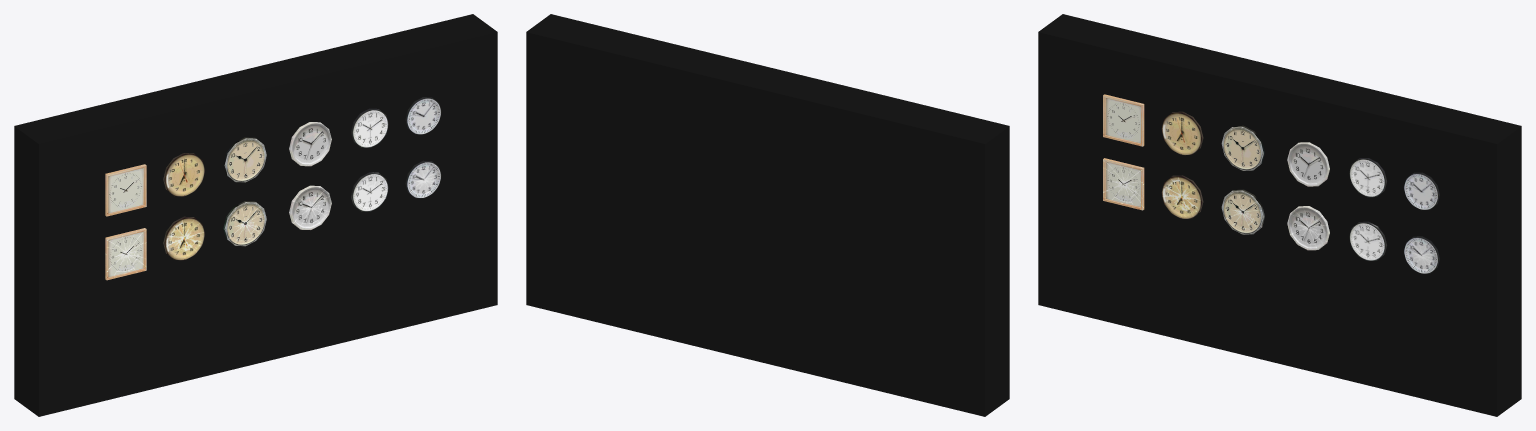
File: psx-style_vintage_wall_clocks.glb
The picture shows the model from 3 angles, left to right: view 1: azimuth 30°, elevation 25°; view 2: azimuth 150°, elevation 25°; view 3: azimuth 330°, elevation 25°; orthographic projection.
Visible parts, largest first — view 1: Wall.001, Wall Clock.005, Wall Clock.011, Wall Clock.004, Wall Clock.010, Wall Clock.003, Wall Clock.009, Wall Clock, Wall Clock.006, Wall Clock.002, Wall Clock.008, Wall Clock.001 (+1 smaller); view 2: Wall.001; view 3: Wall.001, Wall Clock.005, Wall Clock.011, Wall Clock.010, Wall Clock.004, Wall Clock.003, Wall Clock.009, Wall Clock.006, Wall Clock, Wall Clock.002, Wall Clock.008, Wall Clock.001 (+1 smaller).
Boxes of the visible parts, <box> form: Wall.001: <box>14,14,497,416</box>; Wall Clock.005: <box>105,164,146,216</box>; Wall Clock.011: <box>105,228,146,280</box>; Wall Clock.004: <box>223,137,266,182</box>; Wall Clock.010: <box>223,201,266,246</box>; Wall Clock.003: <box>289,122,331,166</box>; Wall Clock.009: <box>289,185,331,229</box>; Wall Clock: <box>163,153,205,196</box>; Wall Clock.006: <box>163,216,205,260</box>; Wall Clock.002: <box>351,108,388,147</box>; Wall Clock.008: <box>351,172,388,211</box>; Wall Clock.001: <box>405,97,441,134</box>; Wall.001: <box>526,14,1009,416</box>; Wall.001: <box>1038,14,1521,416</box>; Wall Clock.005: <box>1103,94,1144,146</box>; Wall Clock.011: <box>1103,158,1144,210</box>; Wall Clock.010: <box>1221,189,1264,234</box>; Wall Clock.004: <box>1221,125,1264,170</box>; Wall Clock.003: <box>1287,142,1329,186</box>; Wall Clock.009: <box>1287,206,1329,250</box>; Wall Clock.006: <box>1161,175,1203,218</box>; Wall Clock: <box>1161,111,1203,155</box>; Wall Clock.002: <box>1349,158,1386,197</box>; Wall Clock.008: <box>1349,221,1386,260</box>; Wall Clock.001: <box>1403,172,1439,210</box>.
Bounding box in the file's own units: 4.11 × 2.34 × 0.4064.
Materials: 3 (2 with a texture image).
